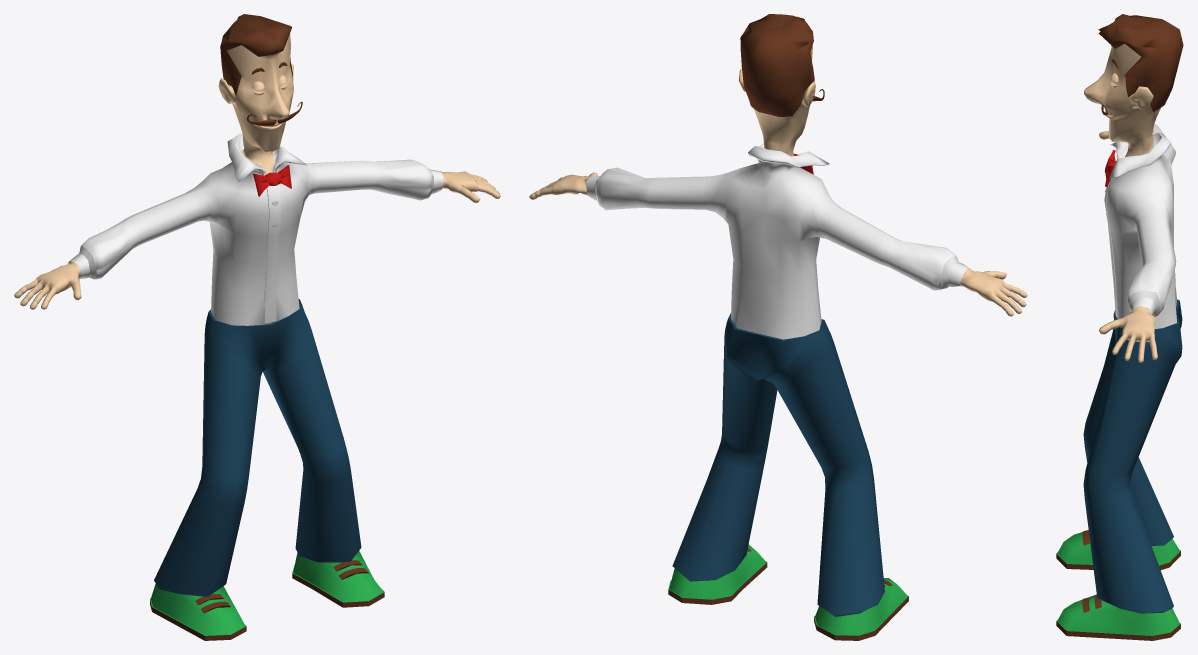
The model's file is bambino_moderno.obj.
3 renders of one model, left to right at view 1: azimuth 30°, elevation 25°; view 2: azimuth 150°, elevation 25°; view 3: azimuth 270°, elevation 25°, orthographic. The views are drawn at different scales.
Visible parts, largest first — view 1: boca_ancha; view 2: boca_ancha; view 3: boca_ancha.
Boxes of the visible parts, bbox=[...] form: boca_ancha: bbox=[14, 14, 500, 640]; boca_ancha: bbox=[529, 14, 1027, 640]; boca_ancha: bbox=[1056, 14, 1183, 640].
Size of the model in its own units: 185 by 212 by 42.83.
